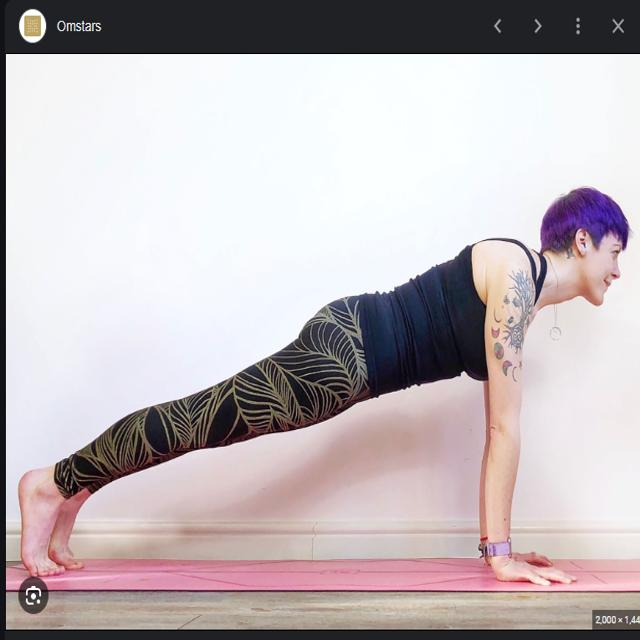Plank_Pose: (18, 182, 628, 593)
